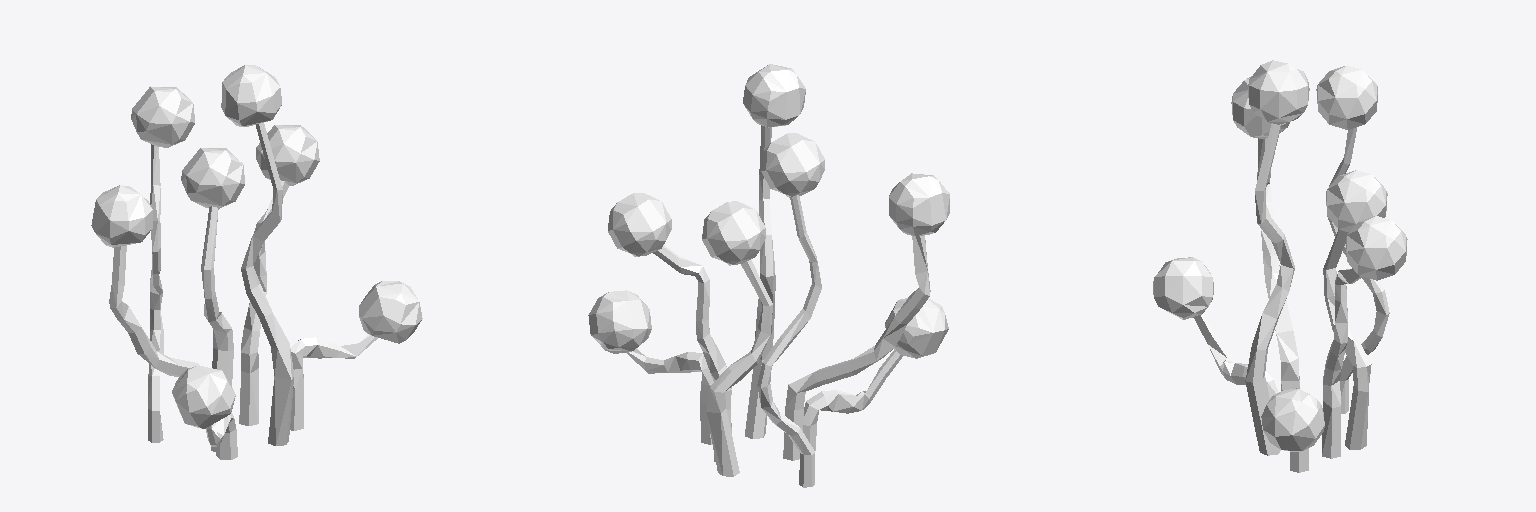
The model's file is flower_03.obj.
3 renders of one model, left to right at view 1: azimuth 30°, elevation 25°; view 2: azimuth 150°, elevation 25°; view 3: azimuth 270°, elevation 25°, orthographic.
Bounding box in the file's own units: 0.9388 × 1 × 0.612.